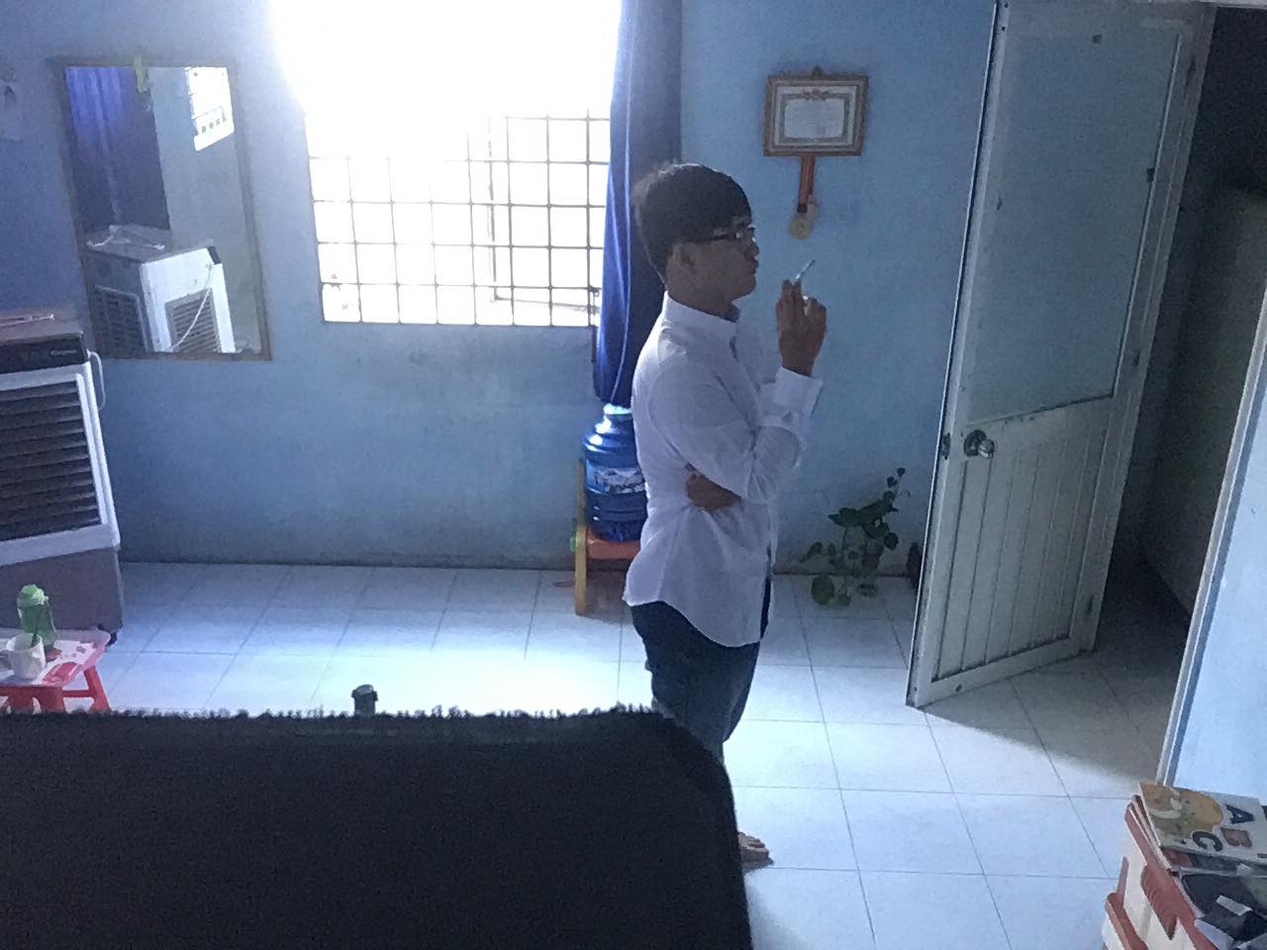cigarette: (785, 254, 821, 287)
person: (622, 146, 852, 778)
